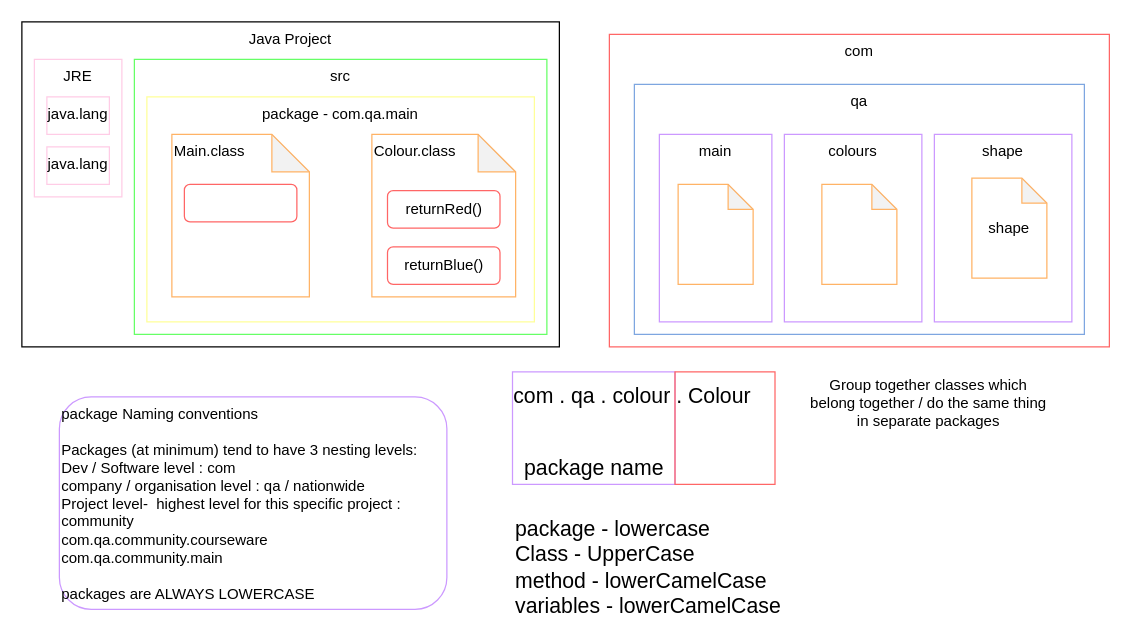
Some shapes in this 1131 by 644 pixel diagram are drawn without their labels. Each missing label, with the centre of its shape:
"class name" belongs at pixel 724 427.
"colour" belongs at pixel 859 233.
"Main / Runner" belongs at pixel 715 233.
"main()" belongs at pixel 240 202.
